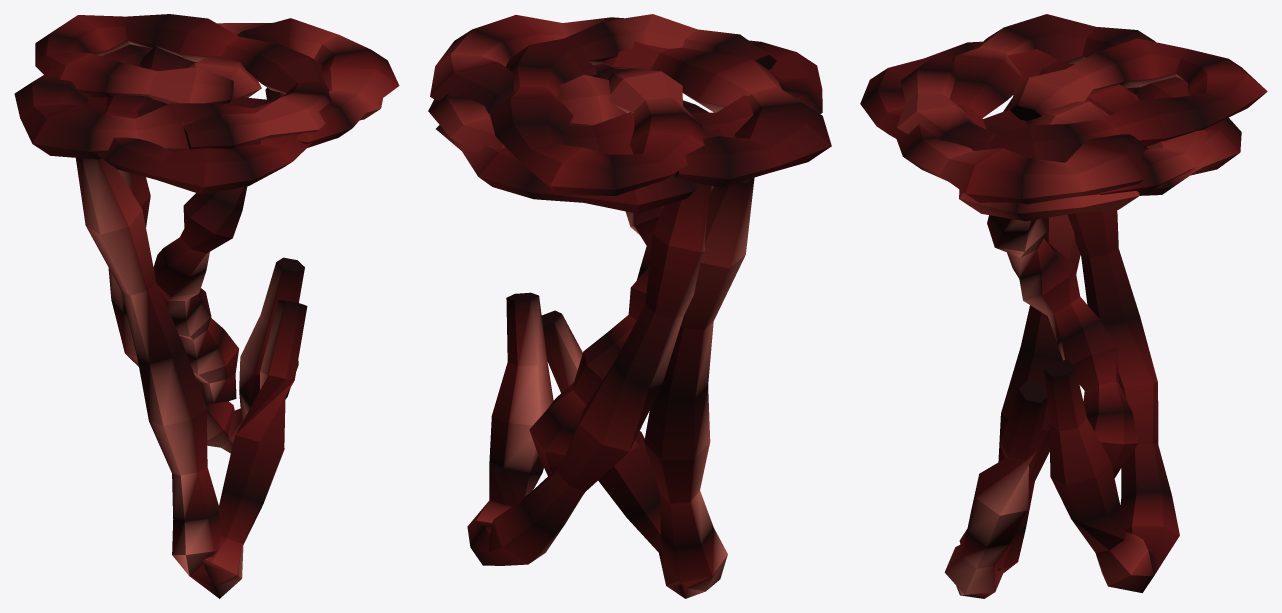
File: boyaux.glb
3 renders of one model, left to right at view 1: azimuth 30°, elevation 25°; view 2: azimuth 150°, elevation 25°; view 3: azimuth 270°, elevation 25°, orthographic. The views are drawn at different scales.
Parts seen in each view (by area): view 1: BoyauxTas, BoyauxPendants; view 2: BoyauxPendants, BoyauxTas; view 3: BoyauxTas, BoyauxPendants.
Boxes of the visible parts, box(x1,y1,x2,y2) form: BoyauxTas: box(14, 14, 399, 194); BoyauxPendants: box(75, 158, 307, 598); BoyauxPendants: box(467, 177, 754, 598); BoyauxTas: box(428, 14, 831, 213); BoyauxTas: box(860, 14, 1267, 221); BoyauxPendants: box(944, 210, 1179, 598).
Bounding box in the file's own units: 0.3681 × 0.4976 × 0.3515.
